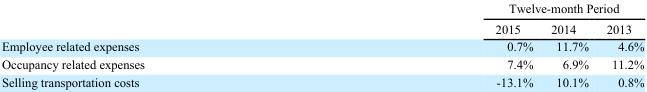table: (0, 1, 643, 88)
table column: (0, 1, 319, 88), (319, 1, 541, 88), (541, 1, 596, 88), (596, 1, 643, 88)
table column header: (0, 1, 643, 37)
table row: (0, 18, 643, 37), (0, 37, 643, 55), (0, 1, 643, 18), (0, 55, 643, 72), (0, 72, 643, 88)
table spanning cell: (319, 1, 643, 18)
